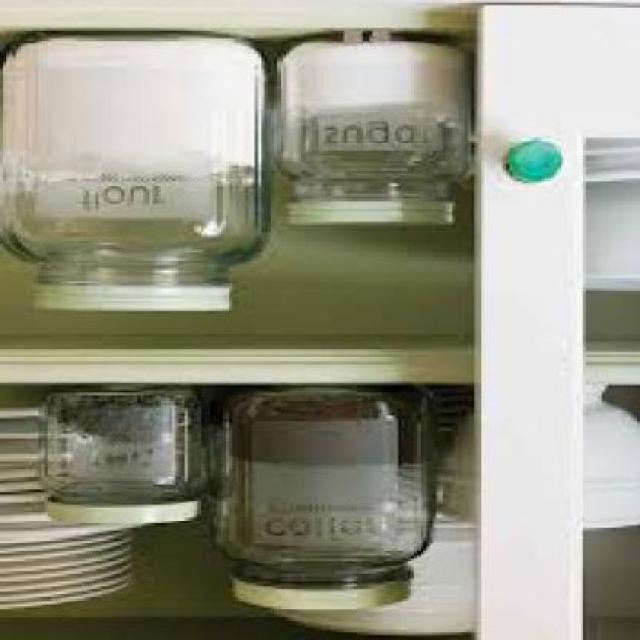BIODEGRADABLE: (3, 44, 259, 188), (280, 41, 465, 130), (220, 401, 423, 472), (44, 400, 194, 449)
GLASS: (0, 37, 268, 286), (210, 393, 433, 584), (274, 32, 468, 202), (35, 386, 204, 502)
METAL: (226, 568, 411, 614), (23, 286, 229, 316), (40, 497, 194, 528), (277, 207, 449, 231)
